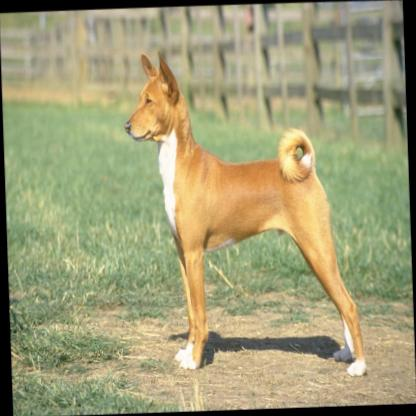basenji: (120, 44, 366, 385)
